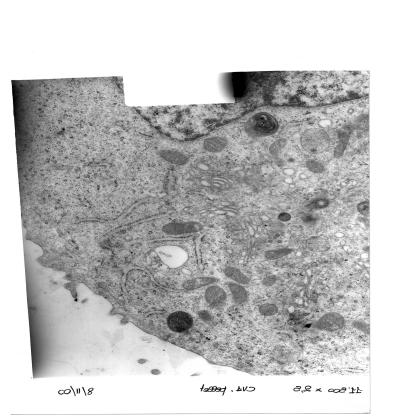mitochondria: (162, 220, 202, 237), (316, 312, 344, 333), (182, 275, 218, 291), (158, 149, 191, 165), (221, 267, 252, 284), (226, 283, 249, 303), (201, 136, 228, 153), (203, 286, 227, 305), (265, 246, 294, 261), (268, 138, 288, 155), (257, 303, 279, 318), (304, 160, 324, 174), (262, 274, 278, 288)
